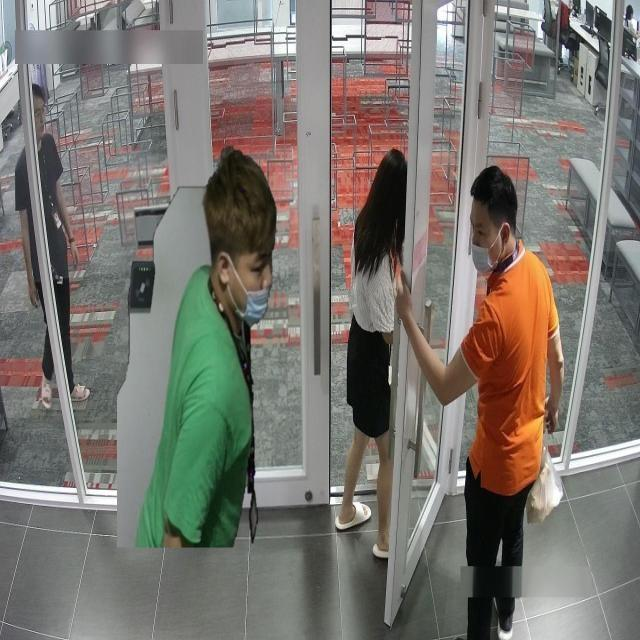hairnet: (232, 263, 272, 326), (468, 227, 506, 280)
no_hairnet: (35, 105, 46, 140)
